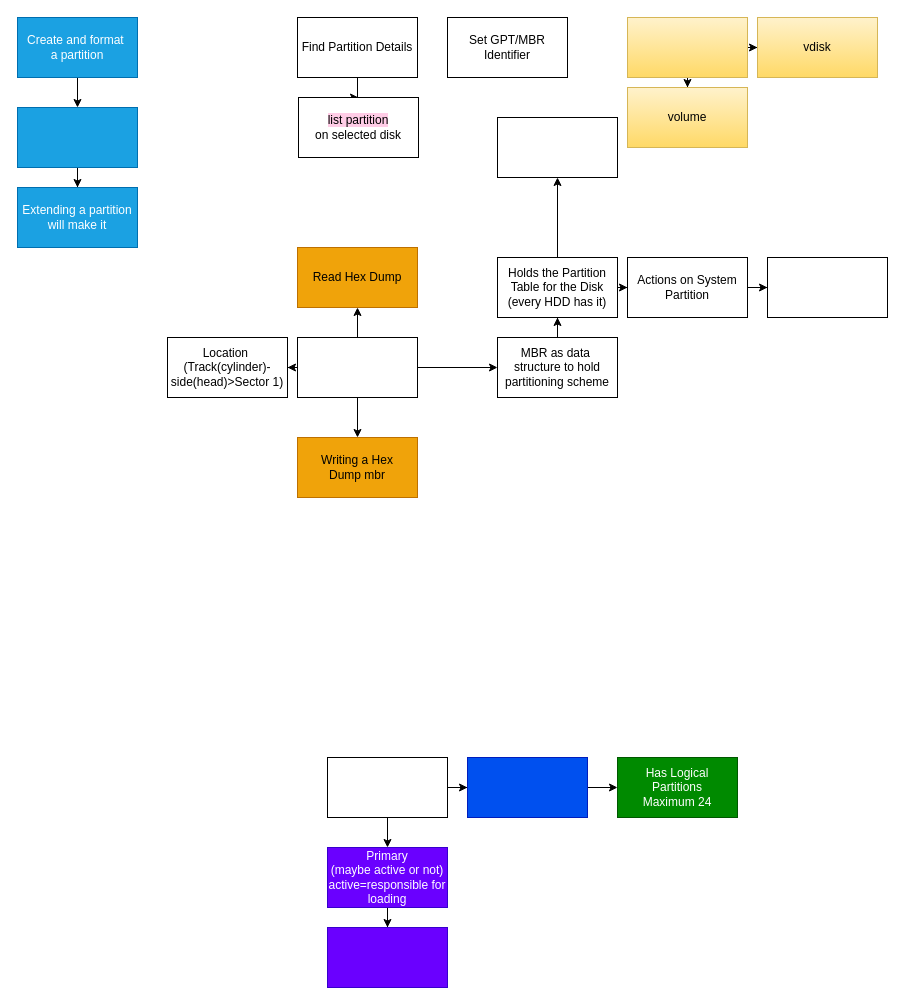
Some shapes in this 905 by 1005 pixel diagram are drawn without their labels. The shapes that lost their labels are listed below. From the top down, each one's centre as x and y in pixels, then its label:
At (x=687, y=47): "Types of Disks".
At (x=77, y=137): "select a disk, create a partition(primary or extended)".
At (x=557, y=147): "Two partition types Primary and Extended".
At (x=827, y=287): "Load system Partition boot sector and the execute".
At (x=357, y=367): "MBR(boot sector)".
At (x=387, y=787): "Types of volume/ partition".
At (x=527, y=787): "Extended- Container for logical drives".
At (x=387, y=957): "Activating A Primary Partition.drawio".
